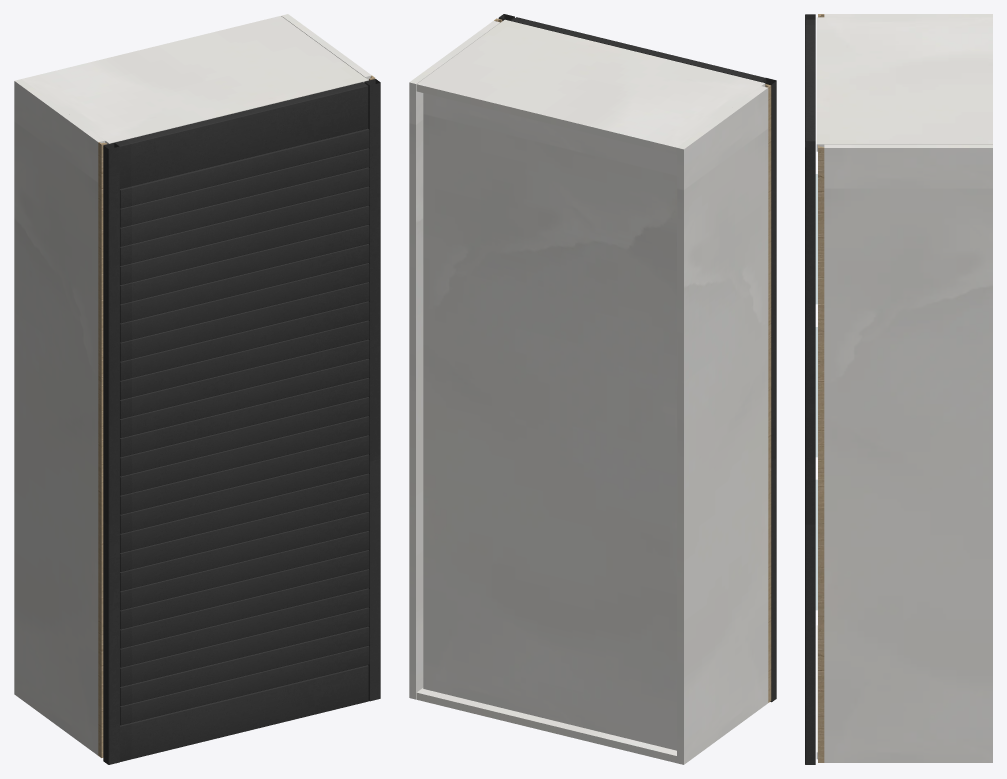
Rendered from MD-RS-NHX-ST-3SG-1SX-XXX-600-1290-336-15.glb.
3 views of the same model, side by side, from view 1: azimuth 30°, elevation 25°; view 2: azimuth 150°, elevation 25°; view 3: azimuth 270°, elevation 25° (orthographic).
Visible parts, largest first — view 1: TP_node_0, TP, Object_node_34, Object_node_36, Object_node_37, Object_node_35, Object_node_50, Object_node_52, Object_node_33, Object_node_22, Object_node_26, Object_node_30 (+24 smaller); view 2: TP_node_2, TP_node_0, TP, TP_node_1, Object_node_36, TP_node, Object_node_10, Object_node_34; view 3: TP_node_1, TP, Object_node_35, Object_node_16, Object_node_34, TP_node_0.
Part boxes in pixels (x1,y1,x2,y2): TP_node_0: (14, 79, 105, 755); TP: (21, 16, 368, 144); Object_node_34: (114, 82, 368, 188); Object_node_36: (103, 143, 119, 764); Object_node_37: (120, 665, 368, 761); Object_node_35: (364, 79, 380, 701); Object_node_50: (120, 128, 369, 208); Object_node_52: (120, 626, 369, 706); Object_node_33: (120, 167, 369, 246); Object_node_22: (120, 377, 369, 457); Object_node_26: (120, 301, 369, 380); Object_node_30: (120, 224, 369, 304); TP_node_2: (423, 93, 676, 750); TP_node_0: (677, 86, 768, 764); TP: (416, 19, 765, 154); TP_node_1: (409, 20, 500, 699); Object_node_36: (761, 78, 776, 702); TP_node: (416, 688, 676, 763); Object_node_10: (765, 84, 771, 702); Object_node_34: (511, 17, 766, 82); TP_node_1: (824, 144, 992, 762); TP: (816, 17, 992, 151); Object_node_35: (805, 142, 815, 764); Object_node_16: (818, 145, 824, 762); Object_node_34: (805, 19, 815, 141); TP_node_0: (824, 14, 992, 17).
Size of what is drawn, in the model's own units: 0.6001 by 1.29 by 0.3556.
Materials: 6 (3 with a texture image).
